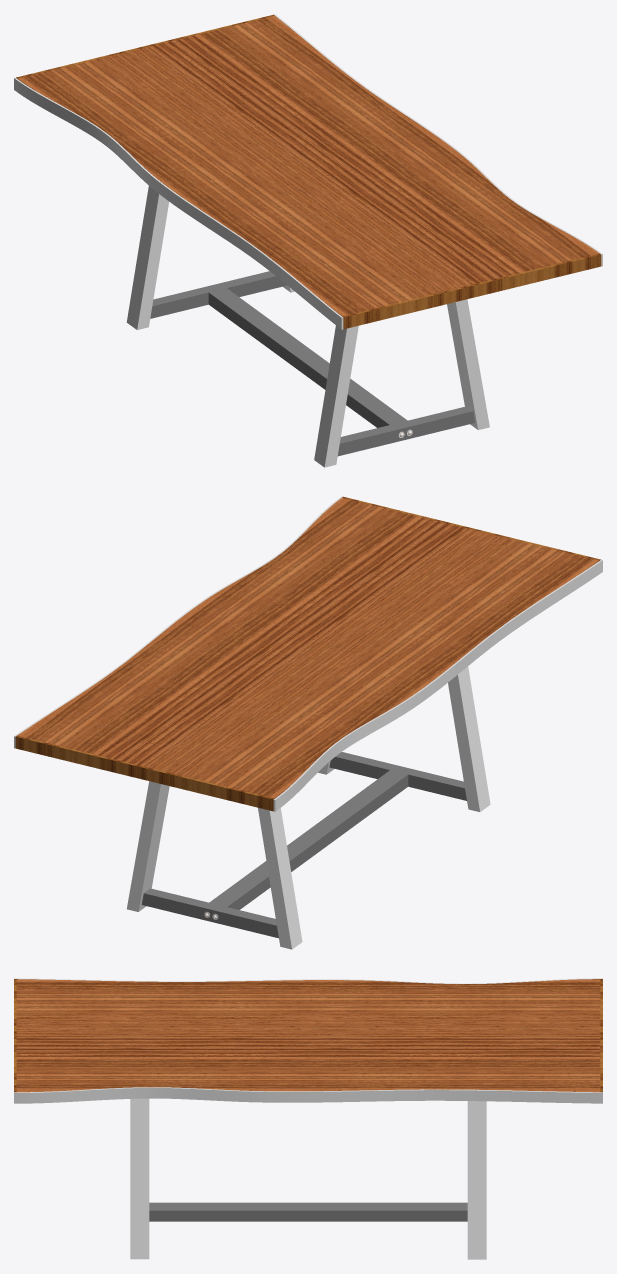
Rendered from IFD3422TBL-mwmlhxge.glb.
The picture shows the model from 3 angles, top to bottom: view 1: azimuth 30°, elevation 25°; view 2: azimuth 150°, elevation 25°; view 3: azimuth 270°, elevation 25°; orthographic projection. The views are drawn at different scales.
Visible parts, largest first — view 1: IFD3422TBL-CUBIERTA-1, 3422TBL-TRAVESAÑO INFERIOR-2, 3422TBL-MOLDURA CUBIERTA-4, IFD3422TBL-BASTIDOR-1/IFD3422TBL- VISTA LATERAL-1, 3422TBL-BASE-3/3422TBL-PATA-1, 3422TBL-BASE-4/3422TBL-PATA-2, 3422TBL-BASE-3/3422TBL-PATA-2, 3422TBL-BASE-3/3422TBL-ARMADOR BASE-1, 3422TBL-BASE-4/3422TBL-ARMADOR BASE-1, 3422TBL-MOLDURA CUBIERTA-3; view 2: IFD3422TBL-CUBIERTA-1, 3422TBL-TRAVESAÑO INFERIOR-2, 3422TBL-MOLDURA CUBIERTA-4, IFD3422TBL-BASTIDOR-1/IFD3422TBL- VISTA LATERAL-2, 3422TBL-BASE-4/3422TBL-PATA-2, 3422TBL-BASE-3/3422TBL-PATA-1, 3422TBL-BASE-4/3422TBL-PATA-1, 3422TBL-BASE-4/3422TBL-ARMADOR BASE-1, 3422TBL-BASE-3/3422TBL-ARMADOR BASE-1, 3422TBL-MOLDURA CUBIERTA-3; view 3: IFD3422TBL-CUBIERTA-1, 3422TBL-MOLDURA CUBIERTA-3, 3422TBL-TRAVESAÑO INFERIOR-2, 3422TBL-BASE-3/3422TBL-PATA-2, 3422TBL-BASE-4/3422TBL-PATA-1, 3422TBL-MOLDURA CUBIERTA-4.
Part boxes in pixels (x1=…): IFD3422TBL-CUBIERTA-1: x1=17, y1=16, x2=599, y2=316; 3422TBL-TRAVESAÑO INFERIOR-2: x1=208, y1=288, x2=407, y2=427; 3422TBL-MOLDURA CUBIERTA-4: x1=14, y1=77, x2=343, y2=329; IFD3422TBL-BASTIDOR-1/IFD3422TBL- VISTA LATERAL-1: x1=342, y1=253, x2=601, y2=329; 3422TBL-BASE-3/3422TBL-PATA-1: x1=314, y1=325, x2=358, y2=467; 3422TBL-BASE-4/3422TBL-PATA-2: x1=126, y1=186, x2=168, y2=329; 3422TBL-BASE-3/3422TBL-PATA-2: x1=447, y1=299, x2=489, y2=429; 3422TBL-BASE-3/3422TBL-ARMADOR BASE-1: x1=338, y1=406, x2=475, y2=456; 3422TBL-BASE-4/3422TBL-ARMADOR BASE-1: x1=150, y1=271, x2=287, y2=318; 3422TBL-MOLDURA CUBIERTA-3: x1=274, y1=14, x2=602, y2=266; IFD3422TBL-CUBIERTA-1: x1=17, y1=498, x2=599, y2=798; 3422TBL-TRAVESAÑO INFERIOR-2: x1=209, y1=770, x2=408, y2=909; 3422TBL-MOLDURA CUBIERTA-4: x1=273, y1=559, x2=602, y2=811; IFD3422TBL-BASTIDOR-1/IFD3422TBL- VISTA LATERAL-2: x1=15, y1=735, x2=274, y2=811; 3422TBL-BASE-4/3422TBL-PATA-2: x1=258, y1=807, x2=302, y2=949; 3422TBL-BASE-3/3422TBL-PATA-1: x1=448, y1=666, x2=490, y2=811; 3422TBL-BASE-4/3422TBL-PATA-1: x1=127, y1=781, x2=169, y2=911; 3422TBL-BASE-4/3422TBL-ARMADOR BASE-1: x1=141, y1=888, x2=278, y2=938; 3422TBL-BASE-3/3422TBL-ARMADOR BASE-1: x1=329, y1=752, x2=466, y2=800; 3422TBL-MOLDURA CUBIERTA-3: x1=14, y1=496, x2=342, y2=748; IFD3422TBL-CUBIERTA-1: x1=16, y1=979, x2=600, y2=1092; 3422TBL-MOLDURA CUBIERTA-3: x1=14, y1=1087, x2=602, y2=1103; 3422TBL-TRAVESAÑO INFERIOR-2: x1=149, y1=1202, x2=467, y2=1221; 3422TBL-BASE-3/3422TBL-PATA-2: x1=130, y1=1098, x2=149, y2=1259; 3422TBL-BASE-4/3422TBL-PATA-1: x1=467, y1=1101, x2=486, y2=1259; 3422TBL-MOLDURA CUBIERTA-4: x1=14, y1=978, x2=602, y2=984.
Bounding box in the file's own units: 1.01 × 0.773 × 2.2.
Materials: 7 (3 with a texture image).
